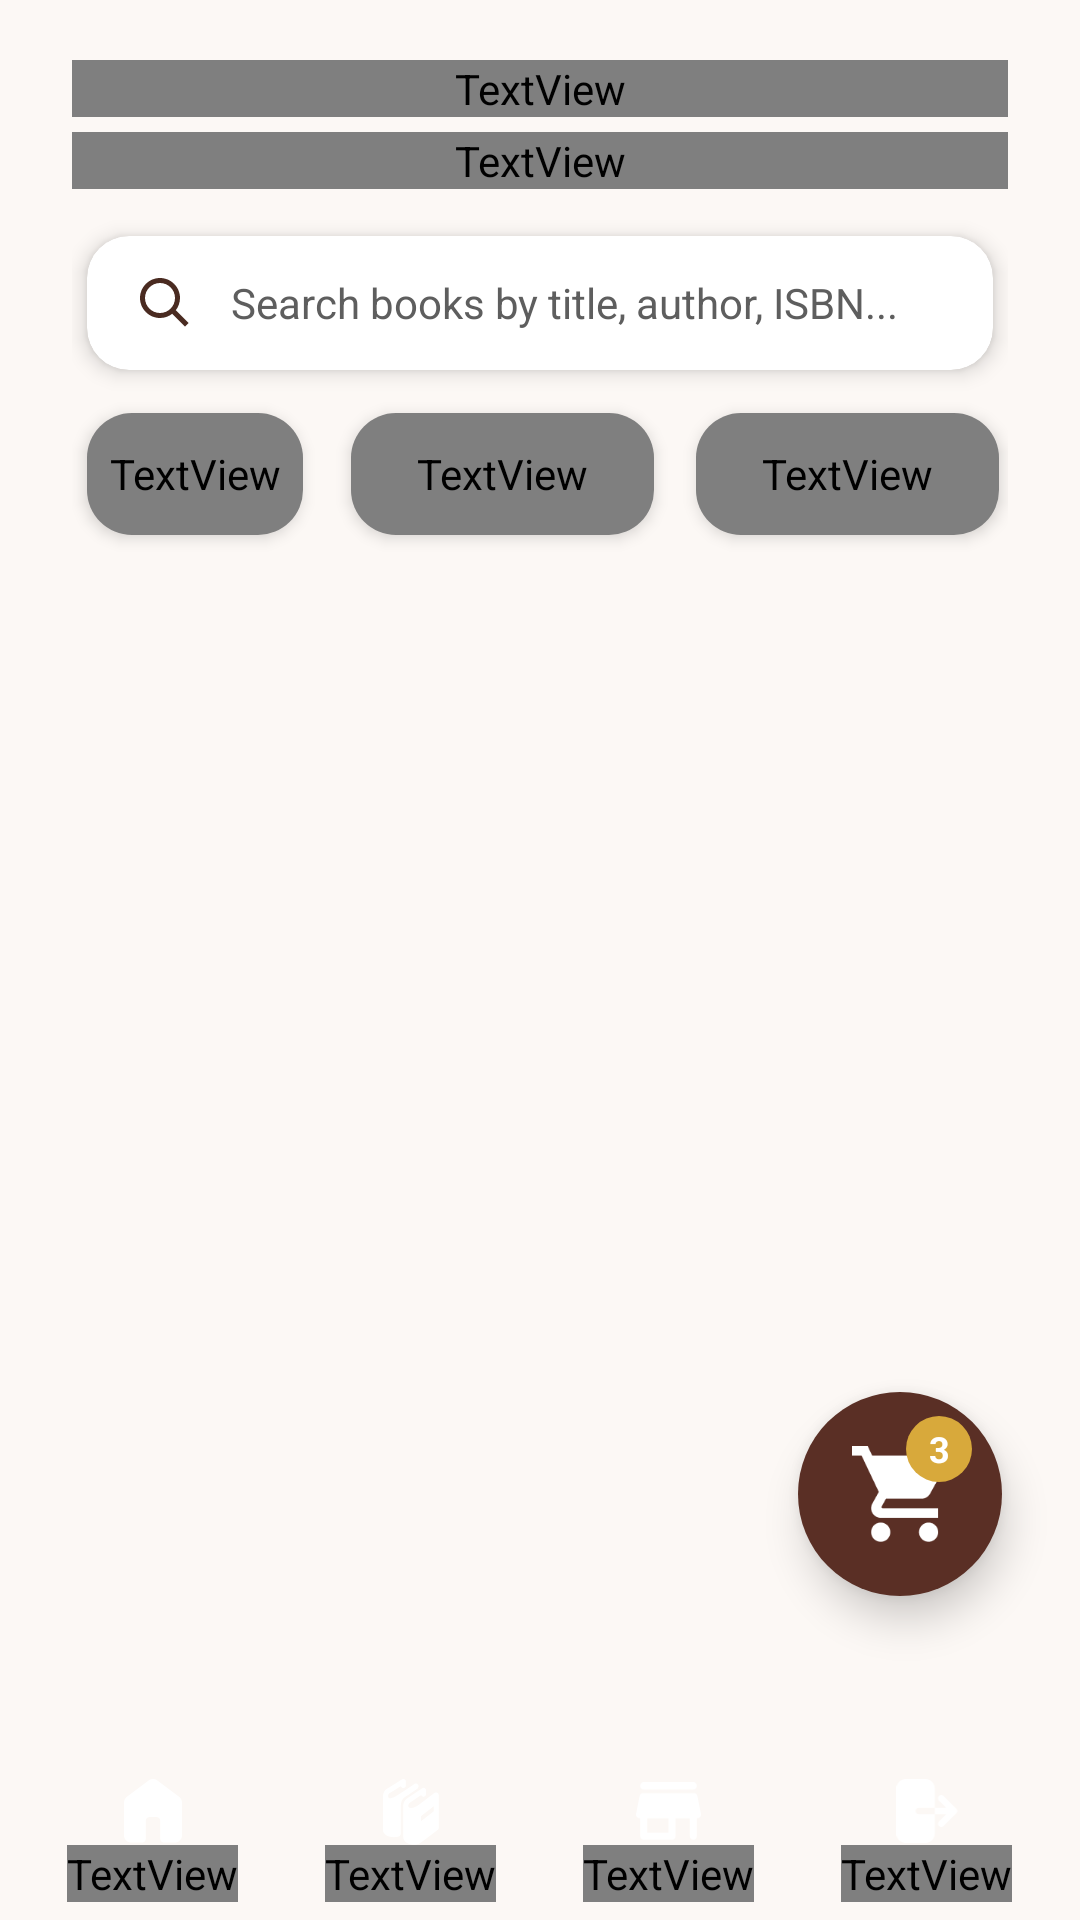

Icons on this 1080×1920 Android screen, each with its box as bbox(x1, y1, x2, y2):
cart: bbox(798, 1392, 1002, 1596)
